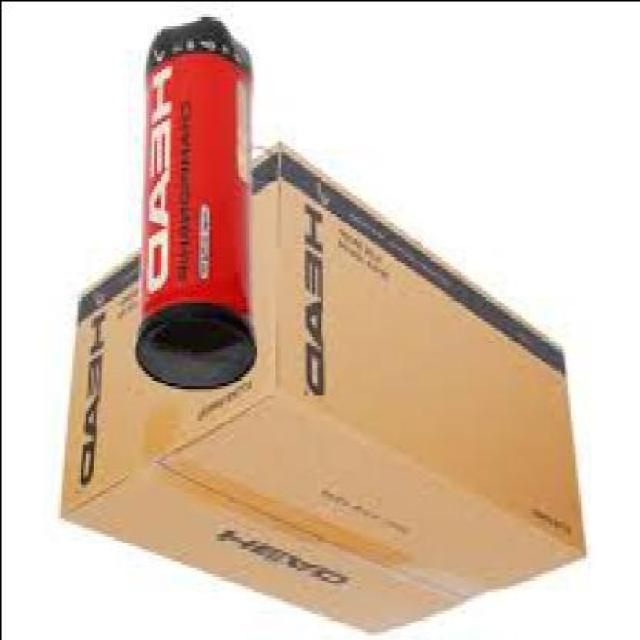CARDBOARD: (56, 145, 582, 637)
PLASTIC: (129, 18, 251, 394)
